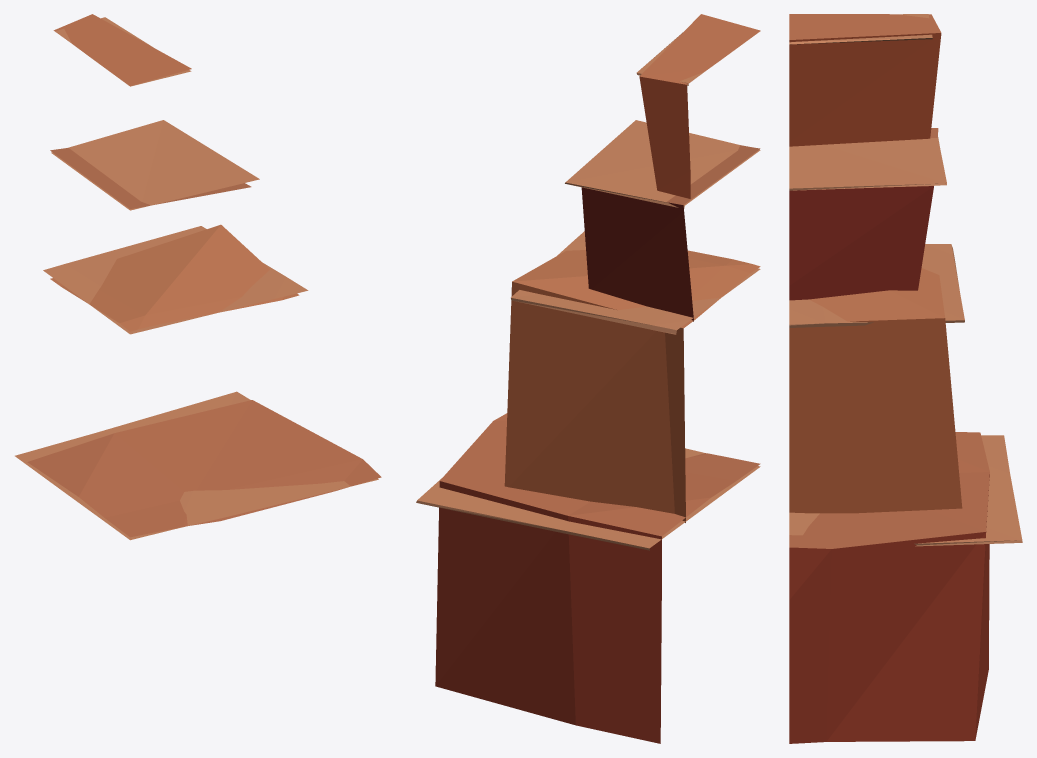
3 views of the same model, side by side, from view 1: azimuth 30°, elevation 25°; view 2: azimuth 150°, elevation 25°; view 3: azimuth 270°, elevation 25° (orthographic). The views are drawn at different scales.
Parts seen in each view (by area): view 1: scene.7.1; view 2: scene.7.1; view 3: scene.7.1.
Part boxes in pixels (box(x1,y1,x2,y2)): scene.7.1: box(15, 14, 381, 540); scene.7.1: box(416, 14, 760, 743); scene.7.1: box(789, 14, 1022, 743).
Size of the model in its own units: 17.02 by 42.45 by 14.4.
